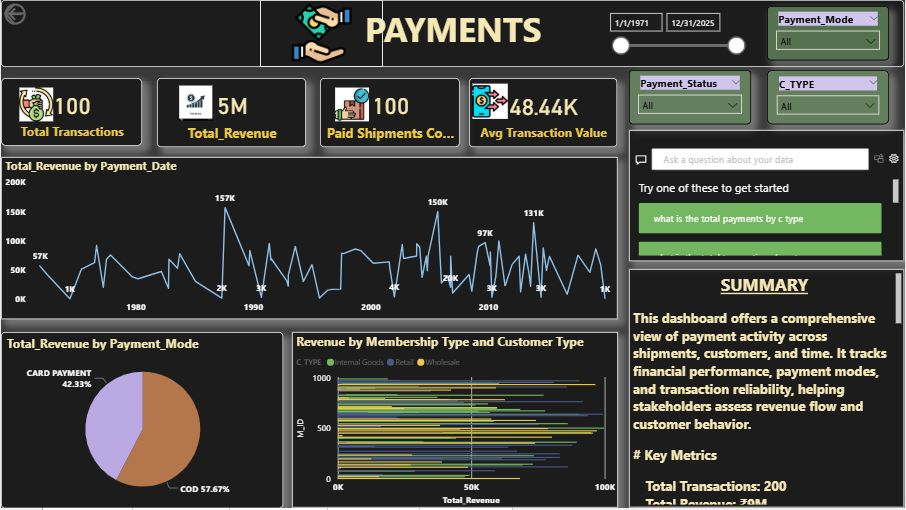

The dashboard page shown, as its layout file describes it:
{"tool":"powerbi","page":{"name":"Payments","canvas":[1280,720],"ordinal":4},"visuals":[{"type":"textbox","box":[0,0,1280,95.3],"z":0},{"type":"image","box":[367.6,0,174.1,95.3],"z":1000},{"type":"actionButton","box":[0,0,100,40],"z":2000},{"type":"card","fields":{"Values":["Payment_Details.Total Transactions"]},"box":[0,110.6,199.8,96.4],"z":3000},{"type":"card","fields":{"Values":["Payment_Details.Total_Revenue"]},"box":[221.1,110.6,211.2,97.8],"z":4000},{"type":"card","fields":{"Values":["Payment_Details.Paid Shipments Count"]},"box":[452.1,110.6,198.4,97.8],"z":5000},{"type":"card","fields":{"Values":["Payment_Details.Avg Transaction Value"]},"box":[663.3,110.6,209.8,97.8],"z":6000},{"type":"lineChart","fields":{"Category":["Payment_Details.Payment_Date"],"Y":["Payment_Details.Total_Revenue"]},"box":[0,223.2,874.1,230.4],"z":7000},{"type":"pieChart","fields":{"Category":["Payment_Details.Payment_Mode"],"Y":["Payment_Details.Total_Revenue"]},"box":[0,470.3,399.8,250.3],"z":8000},{"type":"barChart","title":"Revenue by Membership Type and Customer Type","fields":{"Y":["Payment_Details.Total_Revenue"],"Category":["Membership.M_ID"],"Series":["Customer (1).C_TYPE"]},"box":[411.8,470.9,462.2,249.1],"z":9000},{"type":"image","box":[17,119.1,65.2,58.1],"z":10000},{"type":"image","box":[239.5,116.2,73.7,59.5],"z":11000},{"type":"image","box":[453.5,119.1,87.9,58.1],"z":12000},{"type":"image","box":[663.5,110.9,60.5,65.5],"z":13000},{"type":"slicer","fields":{"Values":["Calendar.Date"]},"box":[850,8.4,213.3,77.3],"z":14000},{"type":"slicer","fields":{"Values":["Payment_Details.Payment_Mode"]},"box":[1085.1,8.4,173,77.3],"z":15000},{"type":"slicer","fields":{"Values":["Payment_Details.Payment_Status"]},"box":[890.3,99.1,173,77.3],"z":16000},{"type":"slicer","fields":{"Values":["Customer (1).C_TYPE"]},"box":[1085.1,99.1,173,77.3],"z":17000},{"type":"qnaVisual","box":[889.9,184.3,390.2,185.8],"z":18000},{"type":"textbox","box":[889.9,381.6,390.2,338.4],"z":19000},{"type":"actionButton","box":[0,0,100,40],"z":20000}]}

Visuals, with their boxes in screenshot pixels (x1, y1, x2, y2), scaled from the page's 1280x720 canvas onto the 906x510 screenshot:
textbox: left=0, top=0, right=905, bottom=68
image: left=260, top=0, right=383, bottom=68
actionButton: left=0, top=0, right=71, bottom=28
card - Payment_Details.Total Transactions: left=0, top=78, right=141, bottom=147
card - Payment_Details.Total_Revenue: left=156, top=78, right=306, bottom=148
card - Payment_Details.Paid Shipments Count: left=320, top=78, right=460, bottom=148
card - Payment_Details.Avg Transaction Value: left=469, top=78, right=618, bottom=148
lineChart - Payment_Details.Payment_Date x Payment_Details.Total_Revenue: left=0, top=158, right=619, bottom=321
pieChart - Payment_Details.Payment_Mode x Payment_Details.Total_Revenue: left=0, top=333, right=283, bottom=509
"Revenue by Membership Type and Customer Type" barChart: left=291, top=334, right=619, bottom=509
image: left=12, top=84, right=58, bottom=126
image: left=170, top=82, right=222, bottom=124
image: left=321, top=84, right=383, bottom=126
image: left=470, top=79, right=512, bottom=125
slicer - Calendar.Date: left=602, top=6, right=753, bottom=61
slicer - Payment_Details.Payment_Mode: left=768, top=6, right=890, bottom=61
slicer - Payment_Details.Payment_Status: left=630, top=70, right=753, bottom=125
slicer - Customer (1).C_TYPE: left=768, top=70, right=890, bottom=125
qnaVisual: left=630, top=131, right=905, bottom=262
textbox: left=630, top=270, right=905, bottom=509
actionButton: left=0, top=0, right=71, bottom=28
